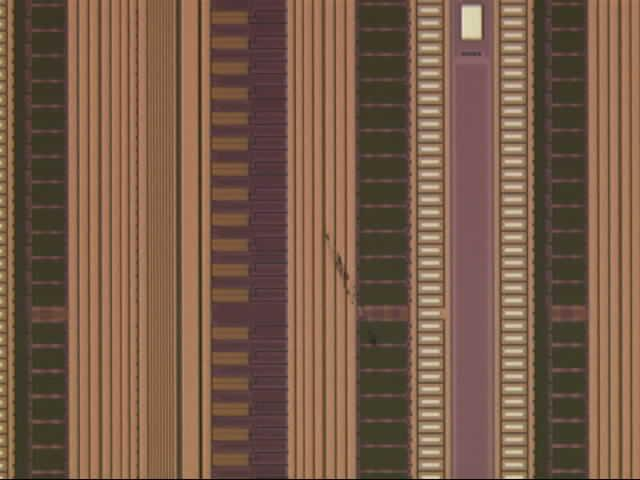SCRATCH: (307, 213, 390, 371)
